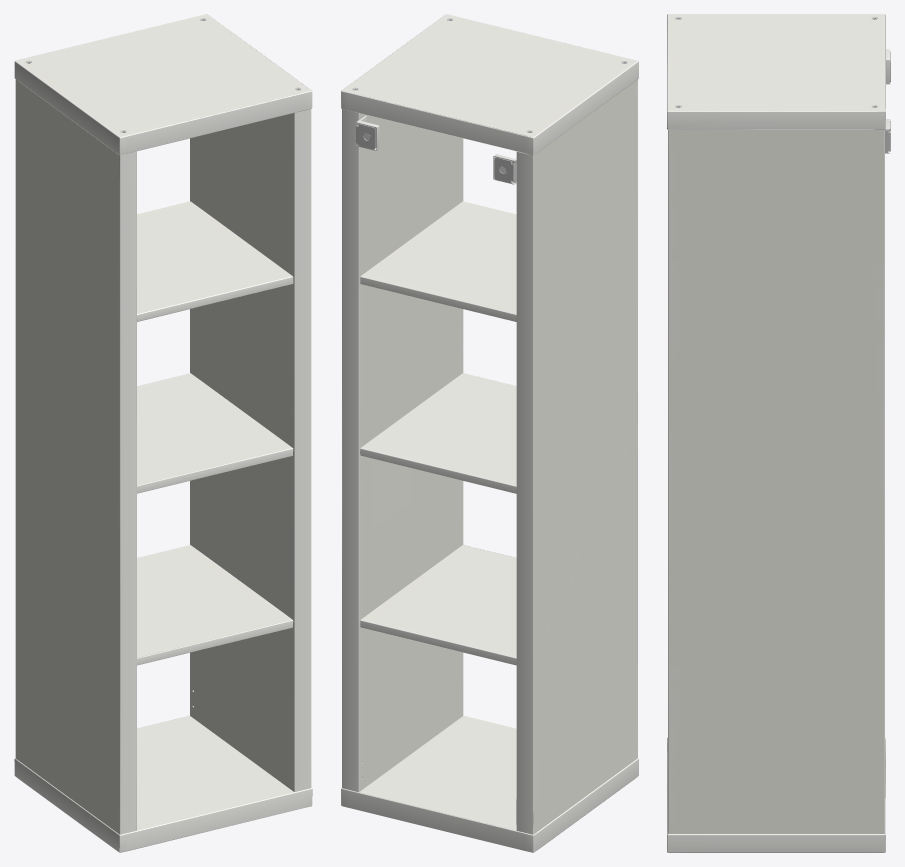
Rendered from kallax_rega_00275848.glb.
3 renders of one model, left to right at view 1: azimuth 30°, elevation 25°; view 2: azimuth 150°, elevation 25°; view 3: azimuth 270°, elevation 25°, orthographic. The views are drawn at different scales.
Visible parts, largest first — view 1: kallax_rega_00275848; view 2: kallax_rega_00275848; view 3: kallax_rega_00275848.
Boxes of the visible parts, bbox=[...] form: kallax_rega_00275848: bbox=[14, 14, 312, 852]; kallax_rega_00275848: bbox=[341, 14, 638, 852]; kallax_rega_00275848: bbox=[667, 14, 890, 852].
Bounding box in the file's own units: 0.414 × 1.47 × 0.4009.
1 material, 1 textured.
